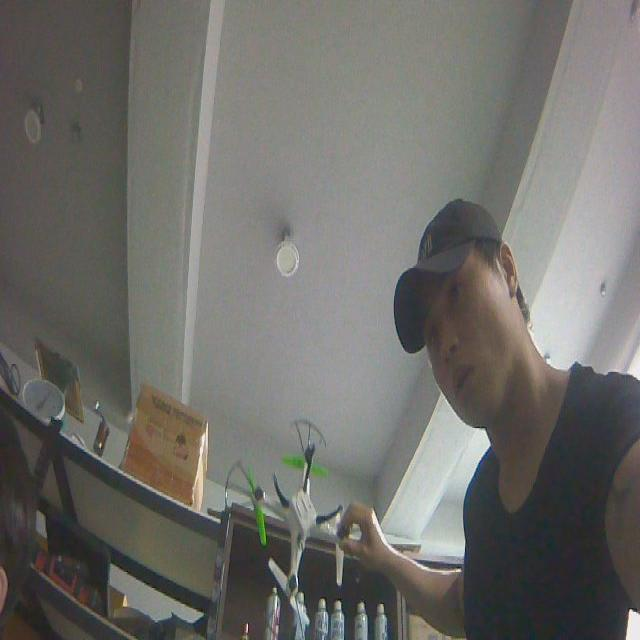drone: (223, 417, 373, 640)
